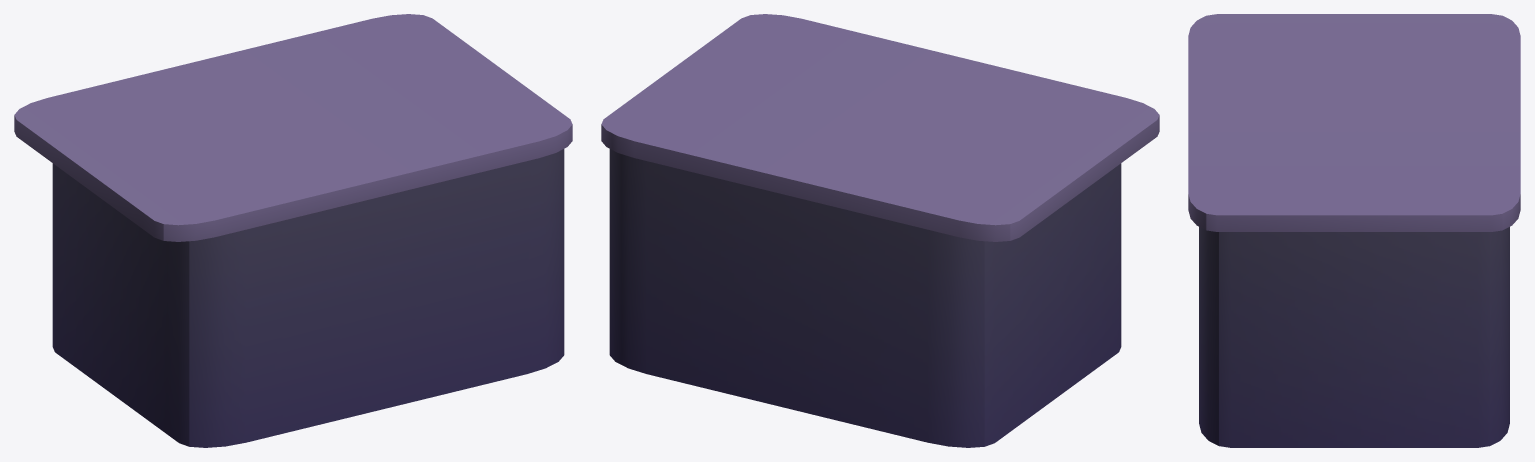
File: Cupboard_Orange_Anim.fbx
3 renders of one model, left to right at view 1: azimuth 30°, elevation 25°; view 2: azimuth 150°, elevation 25°; view 3: azimuth 270°, elevation 25°, orthographic.
Parts seen in each view (by area): view 1: cupboard_Orange; view 2: cupboard_Orange; view 3: cupboard_Orange.
Boxes of the visible parts, x1,y1,x2,y2 form: cupboard_Orange: (14, 14, 572, 447); cupboard_Orange: (601, 14, 1159, 447); cupboard_Orange: (1188, 14, 1520, 447).
Bounding box in the file's own units: 1.59 × 0.857 × 1.11.
